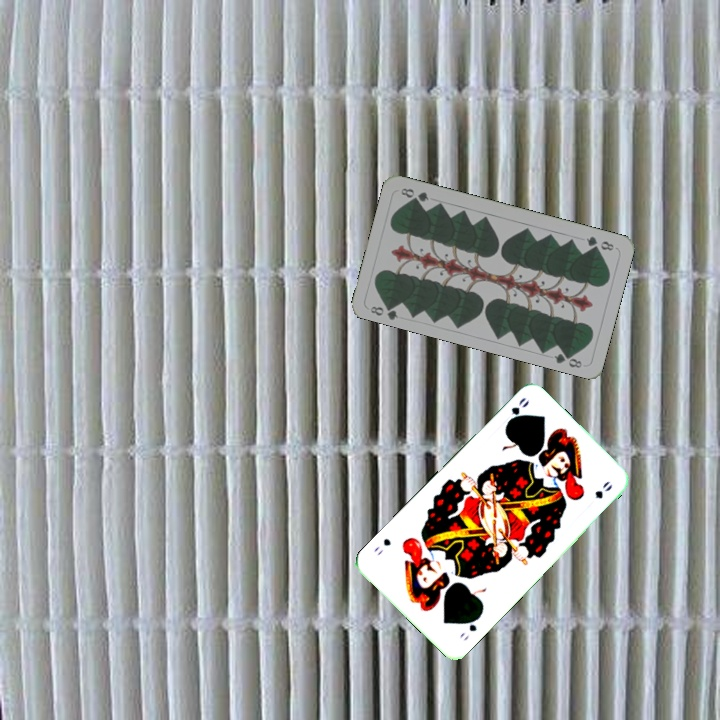G8: (366, 299, 401, 322), (582, 232, 617, 253)
GO: (502, 393, 532, 429), (455, 612, 483, 643)
